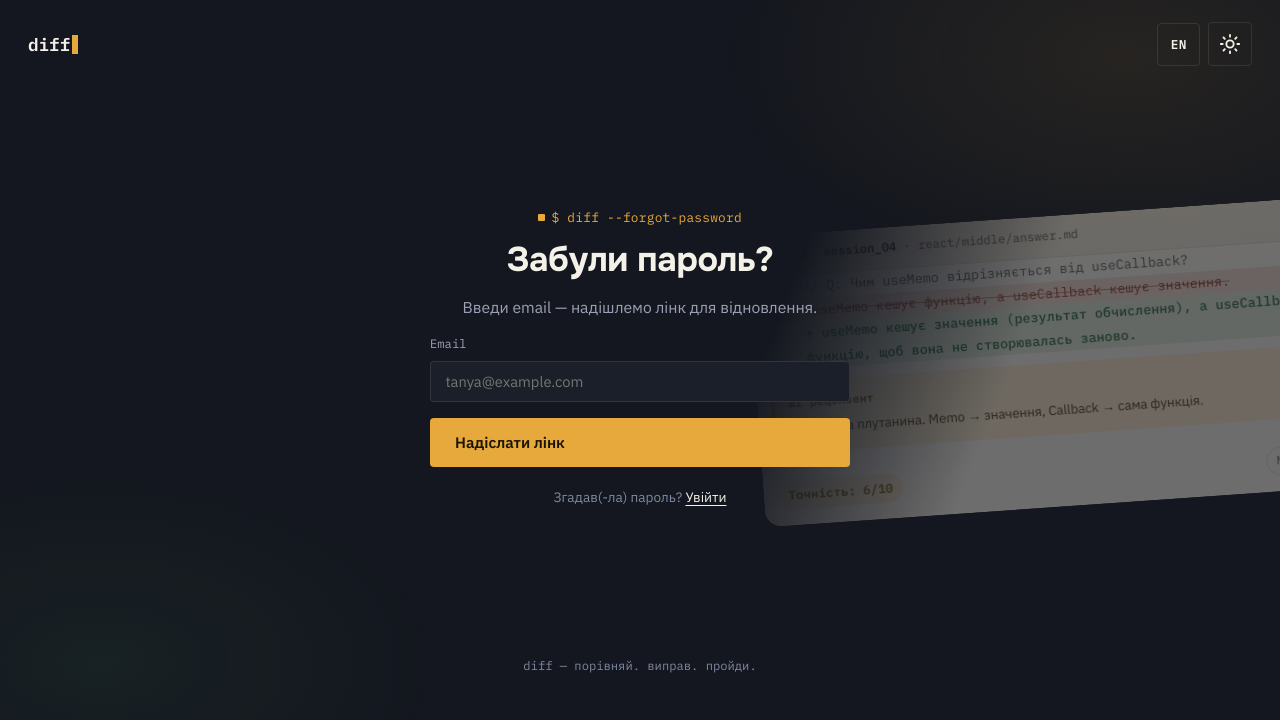
Scenario: ResetPasswordPage i18n › offers the language toggle here too
The width and height of the screenshot is (1280, 720).
Click the button with aria-label "Змінити мову на English".
click(1179, 44)  # box [1158,23,1200,66]
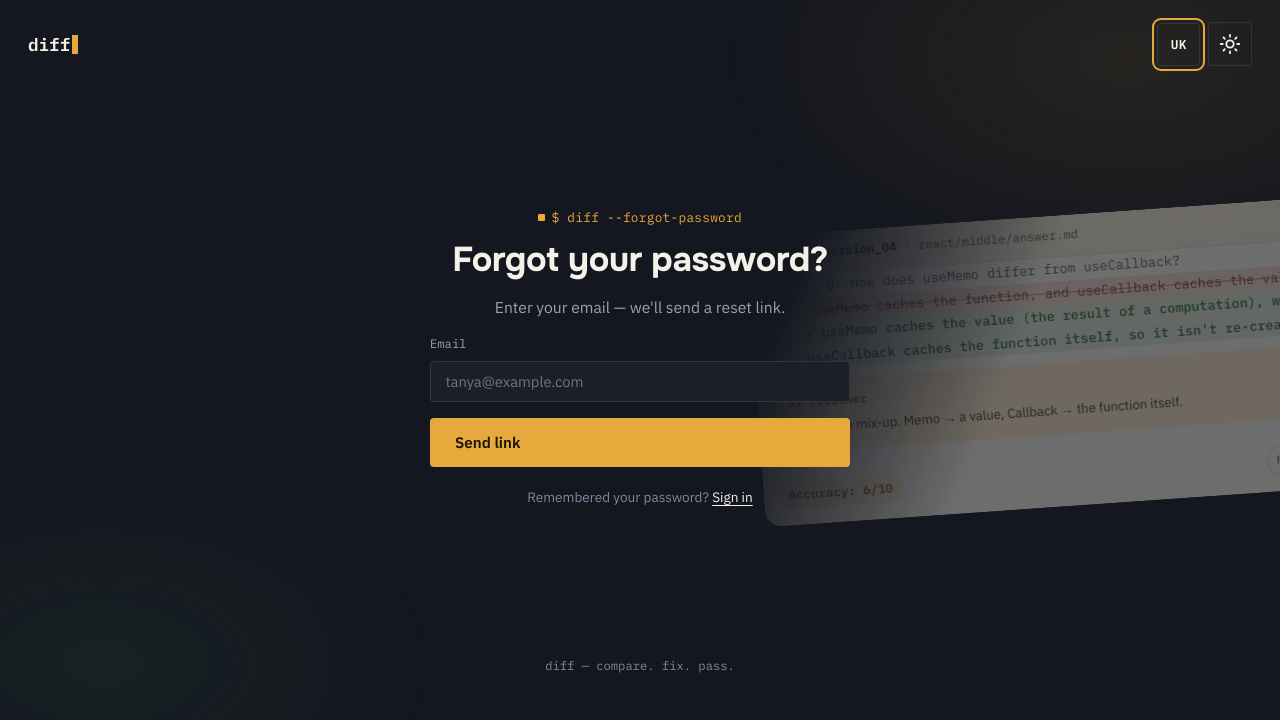
Expected: the heading "Forgot your password?" is shown, [430,240,850,280]
